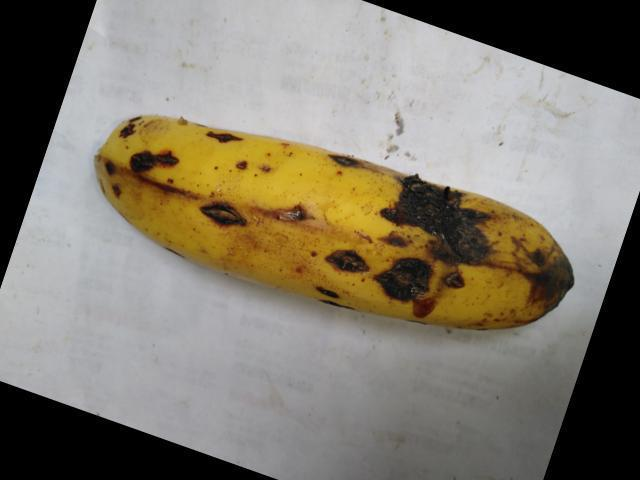rotten: (370, 167, 506, 312), (507, 224, 580, 309), (172, 177, 250, 243), (108, 115, 168, 189), (300, 226, 355, 297), (311, 133, 382, 181), (188, 100, 243, 161), (259, 179, 307, 239)
